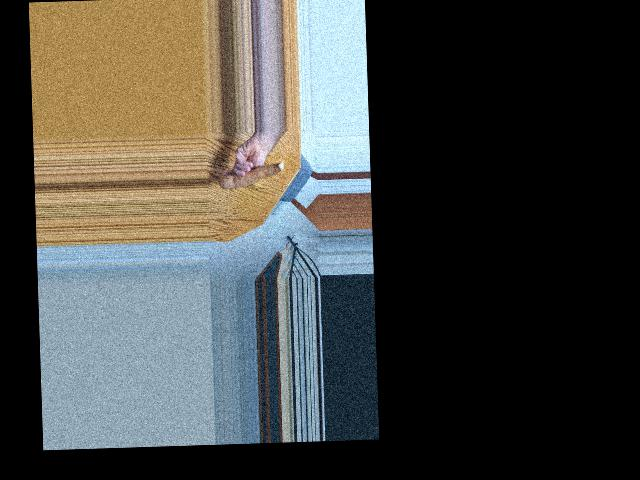sweet_potato: (221, 160, 286, 193)
